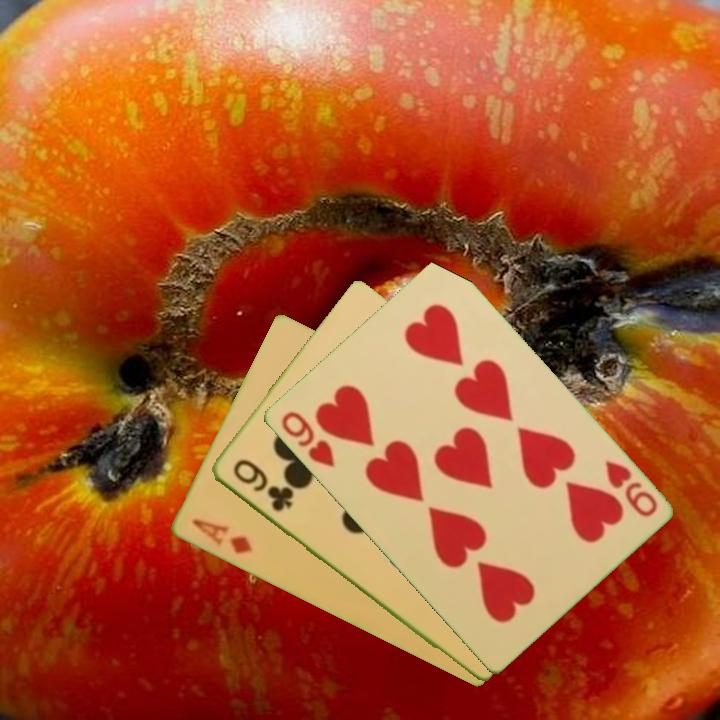9c: (228, 455, 295, 515)
9h: (277, 407, 338, 471), (600, 456, 660, 520)
Ad: (187, 515, 256, 558)
